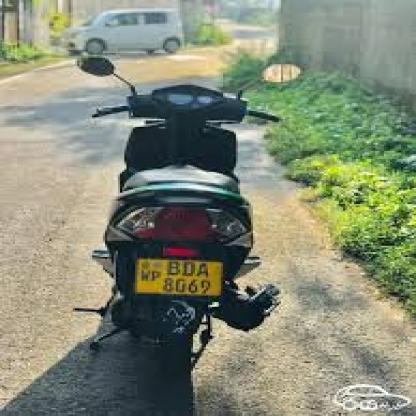bike back: (80, 52, 304, 406)
number plate: (136, 259, 224, 296)
